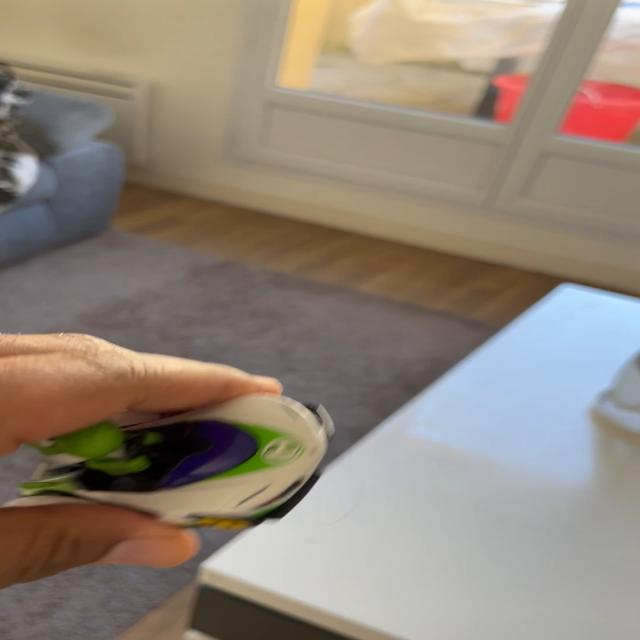yoshi: (3, 383, 368, 546)
